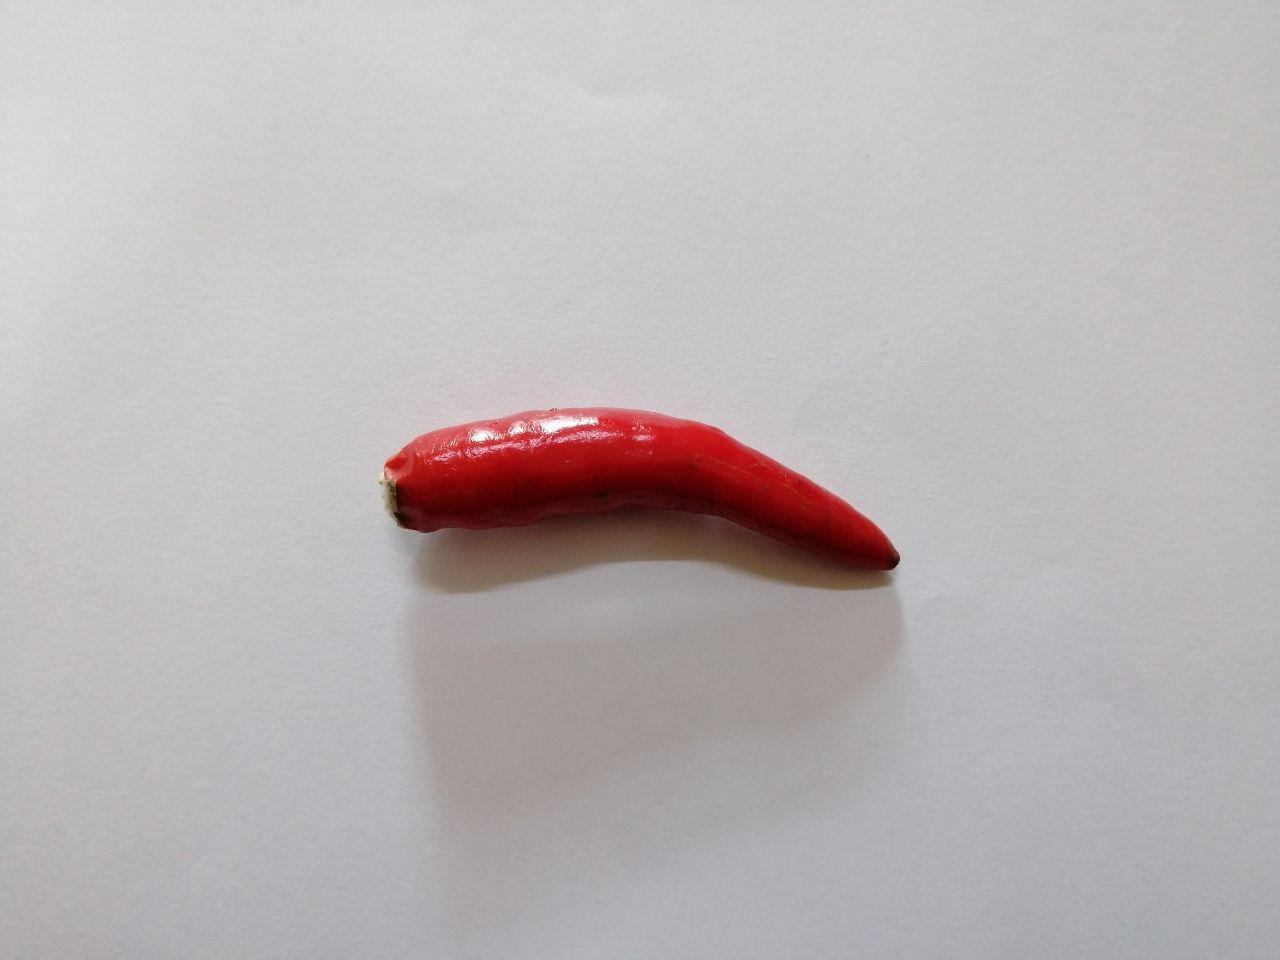lada merah: (366, 380, 921, 624)
